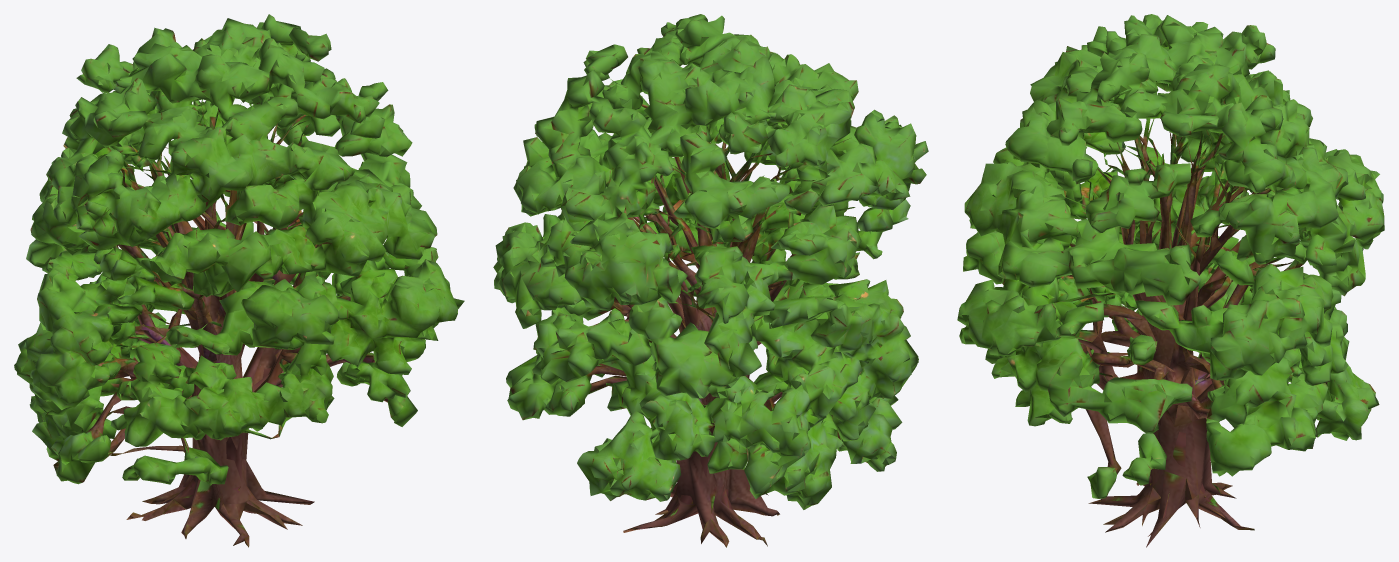
Rendered from mature-temperate-oak-meshy6-r1-production-lod.glb.
The picture shows the model from 3 angles, left to right: view 1: azimuth 30°, elevation 25°; view 2: azimuth 150°, elevation 25°; view 3: azimuth 270°, elevation 25°; orthographic projection.
Visible parts, largest first — view 1: Mesh_0.001; view 2: Mesh_0.001; view 3: Mesh_0.001.
Boxes of the visible parts, x1=… form: Mesh_0.001: x1=14, y1=14, x2=464, y2=547; Mesh_0.001: x1=493, y1=14, x2=928, y2=547; Mesh_0.001: x1=957, y1=14, x2=1384, y2=547.
Bounding box in the file's own units: 8.19 × 10 × 8.17.
1 material, 1 textured.
